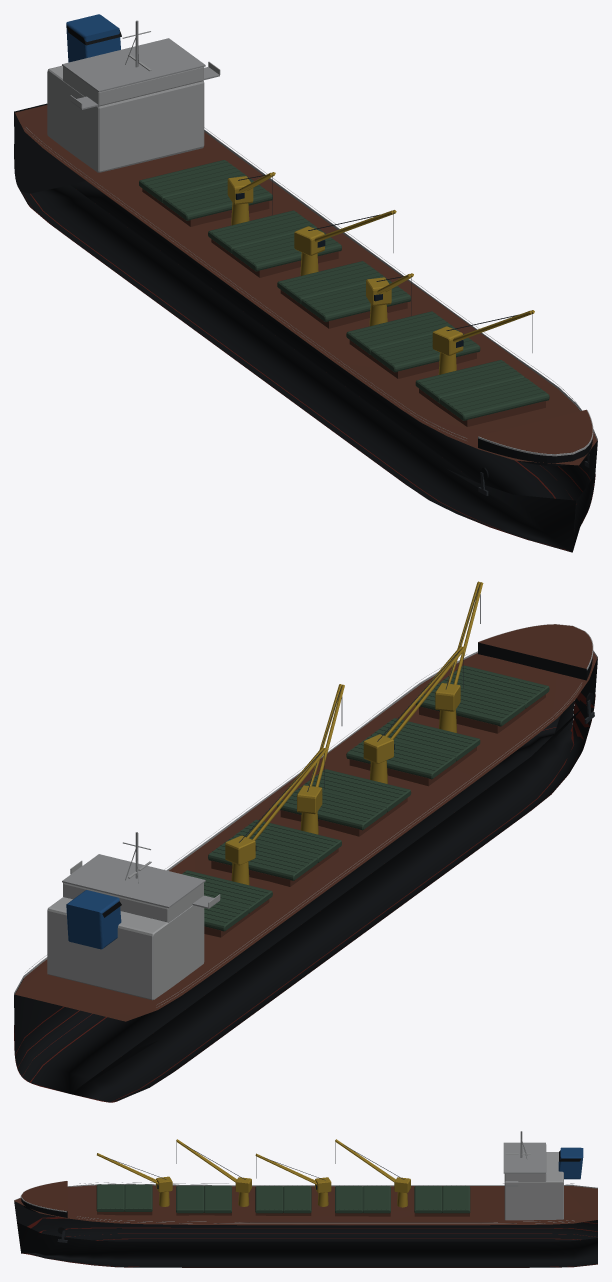
File: cargo.glb
3 renders of one model, top to bottom at view 1: azimuth 30°, elevation 25°; view 2: azimuth 150°, elevation 25°; view 3: azimuth 270°, elevation 25°, orthographic. The views are drawn at different scales.
Bounding box in the file's own units: 32.2 × 46.49 × 201.
